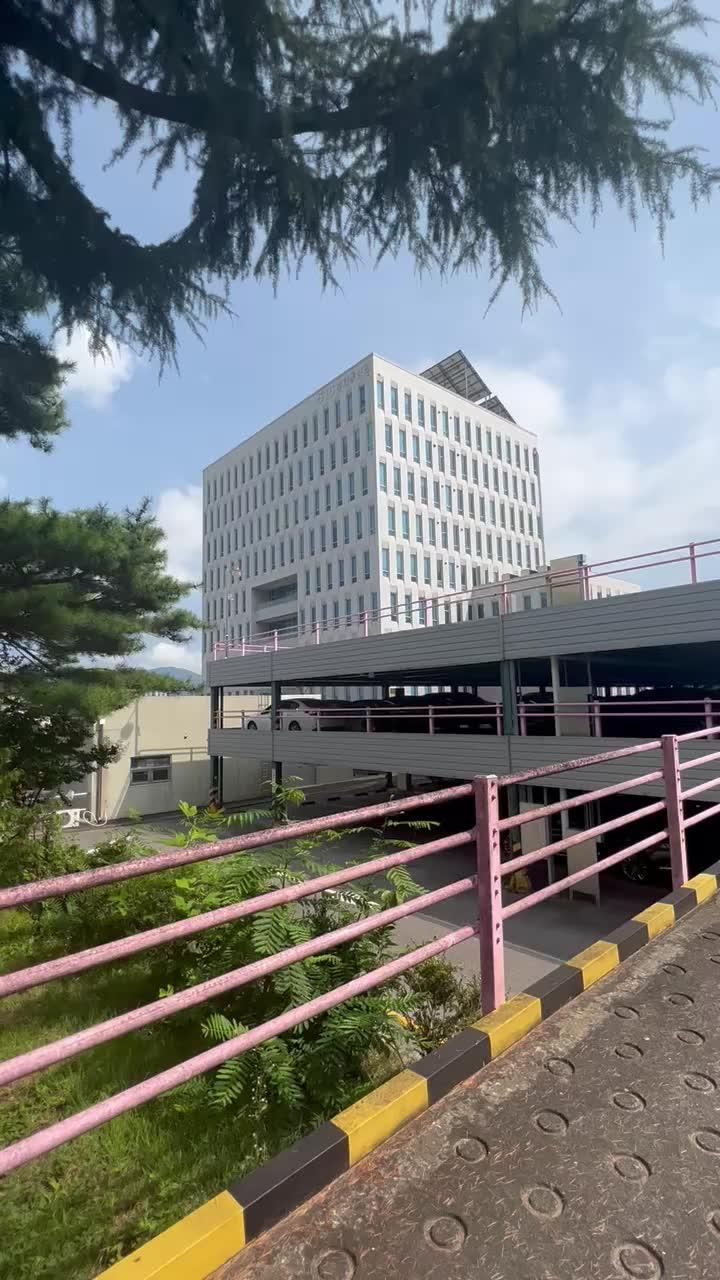building: (170, 316, 564, 612)
